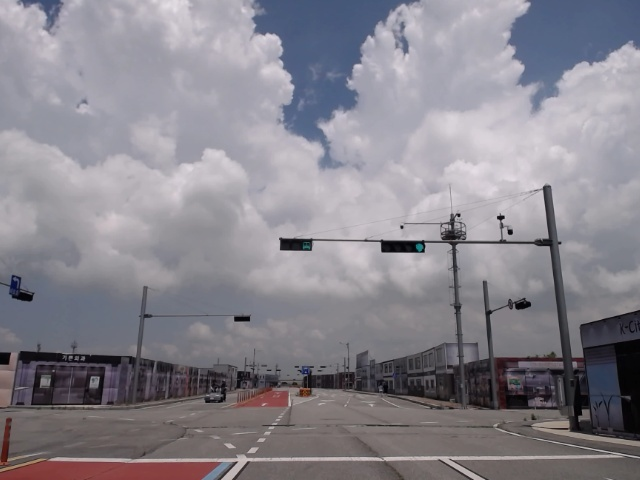straight_green_4: (380, 240, 425, 251)
